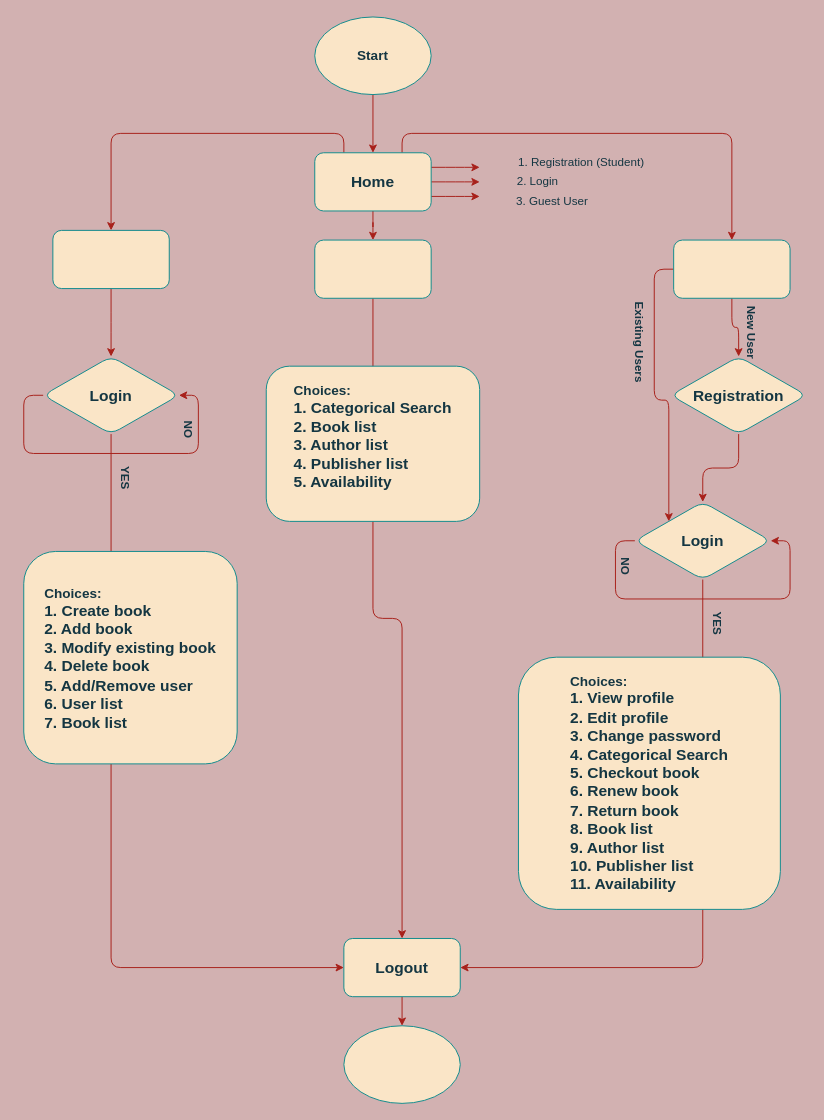
This 824x1120 diagram has some shape labels left out. Here are the shapes that lost their labels. From the top down, the box of each, then its label:
(52, 229, 169, 289): Librarian
(314, 239, 431, 298): Guest User
(673, 239, 790, 298): Student
(343, 1025, 460, 1103): End
